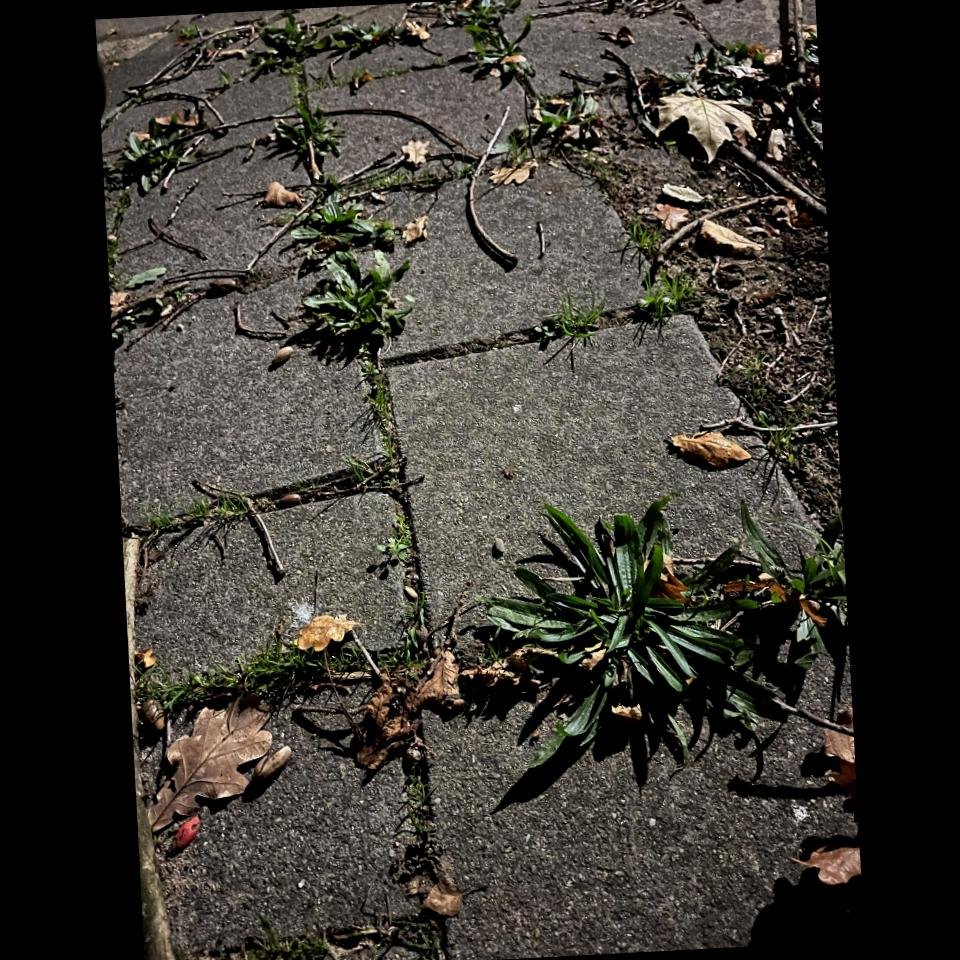weed: (476, 502, 841, 748), (262, 100, 397, 350), (149, 632, 420, 713), (264, 20, 403, 164), (625, 225, 691, 316), (111, 131, 198, 190), (469, 0, 520, 81), (547, 297, 601, 336)
